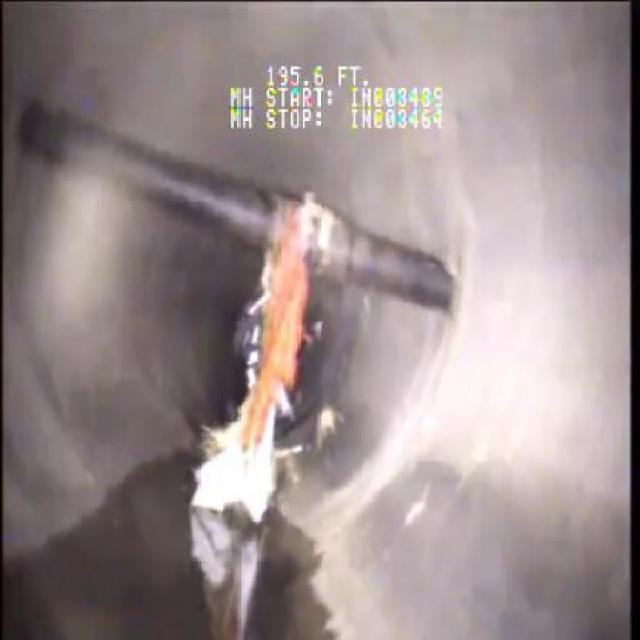Utility intrusion: (21, 98, 454, 317)
